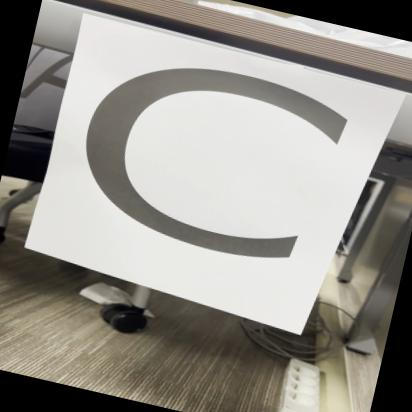seat: (42, 18, 382, 337)
